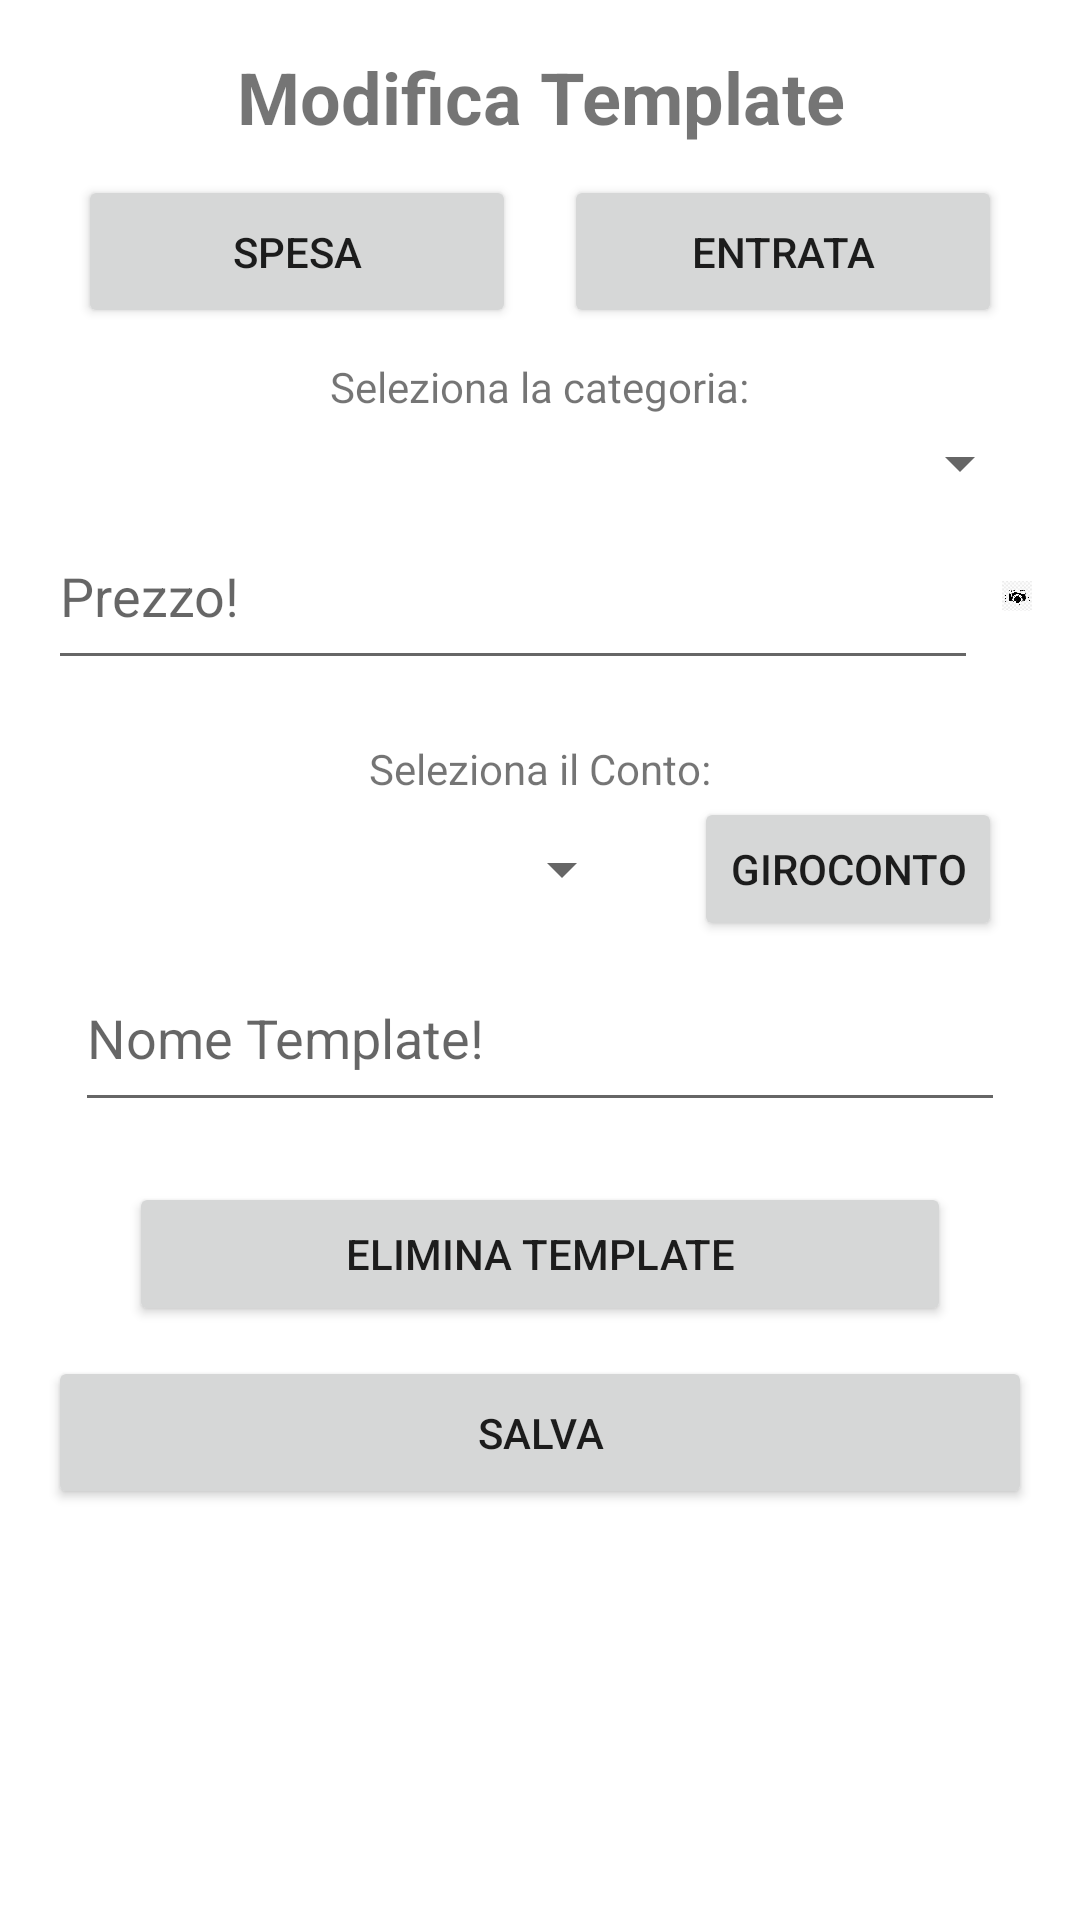

Point at icon controls on the screen. Image size 1080 × 1920, points as (x,y).
Icona della fotocamera: (1017,597)
